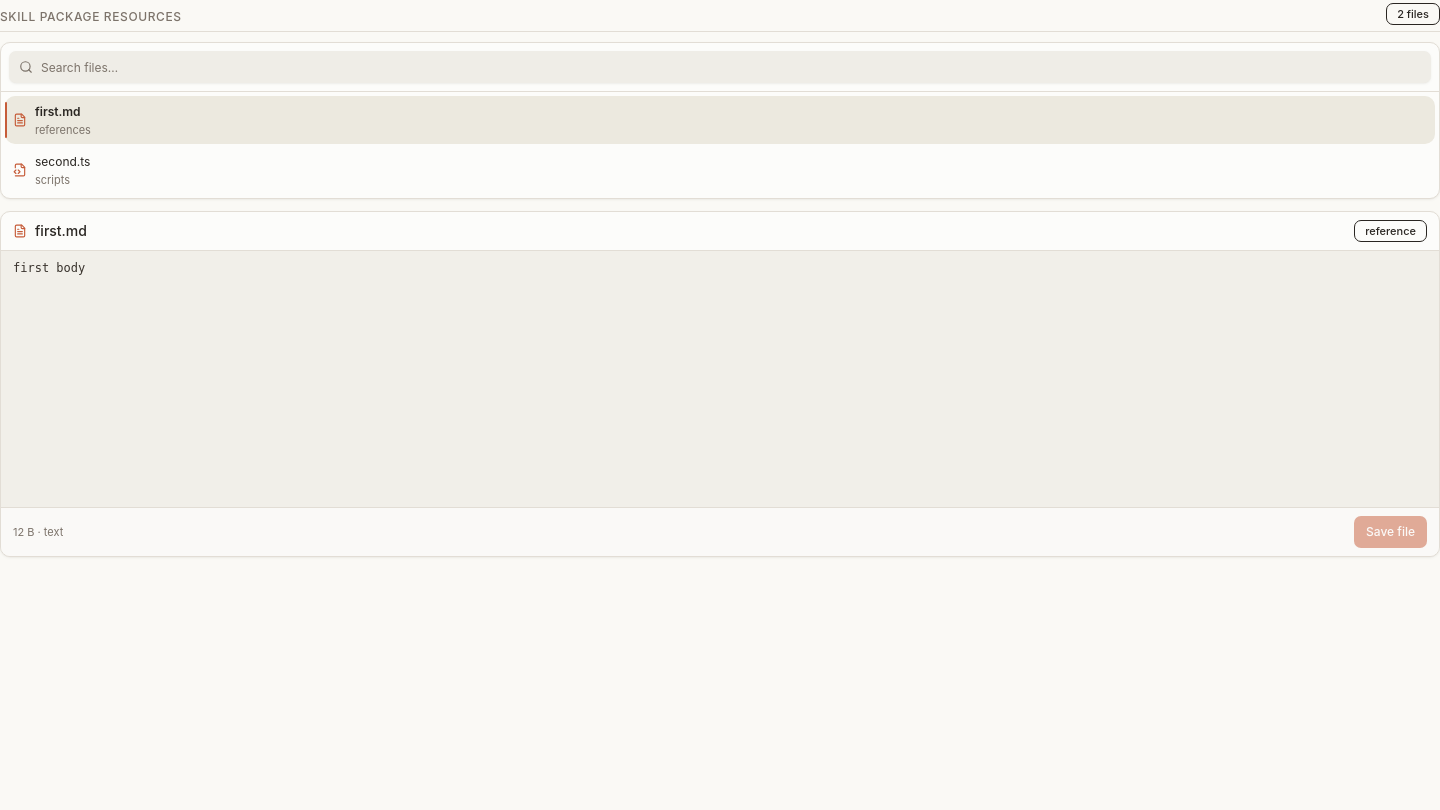
Test: SkillResourcesPanel › guards a dirty resource before selecting another file
The image size is (1440, 810).
Expected: the button "Save file" is disabled, [1354,516,1427,548]
Replace the text in the text box named "editable text" with "local draft" at (720, 379), box [1,251,1439,507]
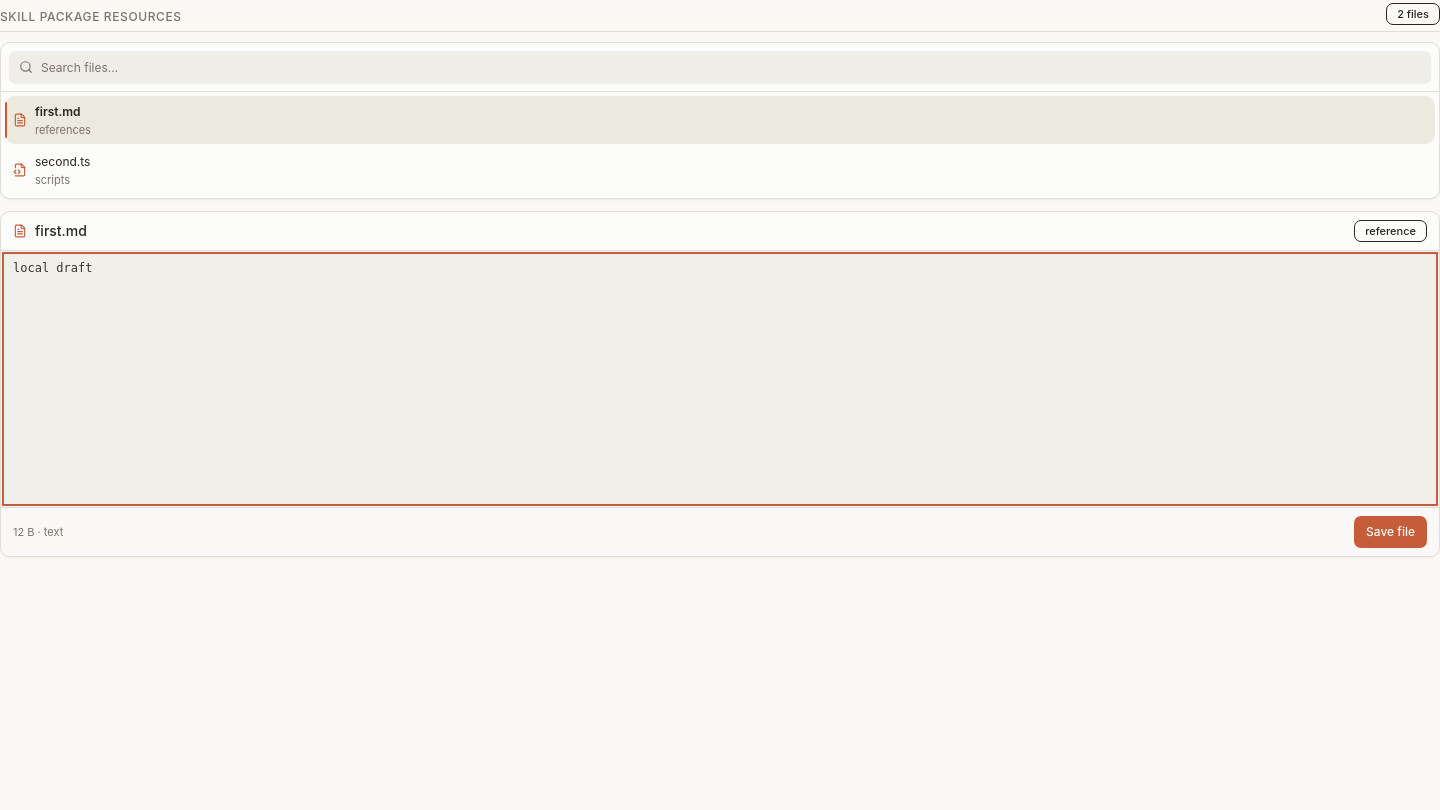
Now the button "Save file" is enabled, box [1354,516,1427,548]
Click the button "second.ts scripts".
click(63, 162)  # box [5,146,1435,194]
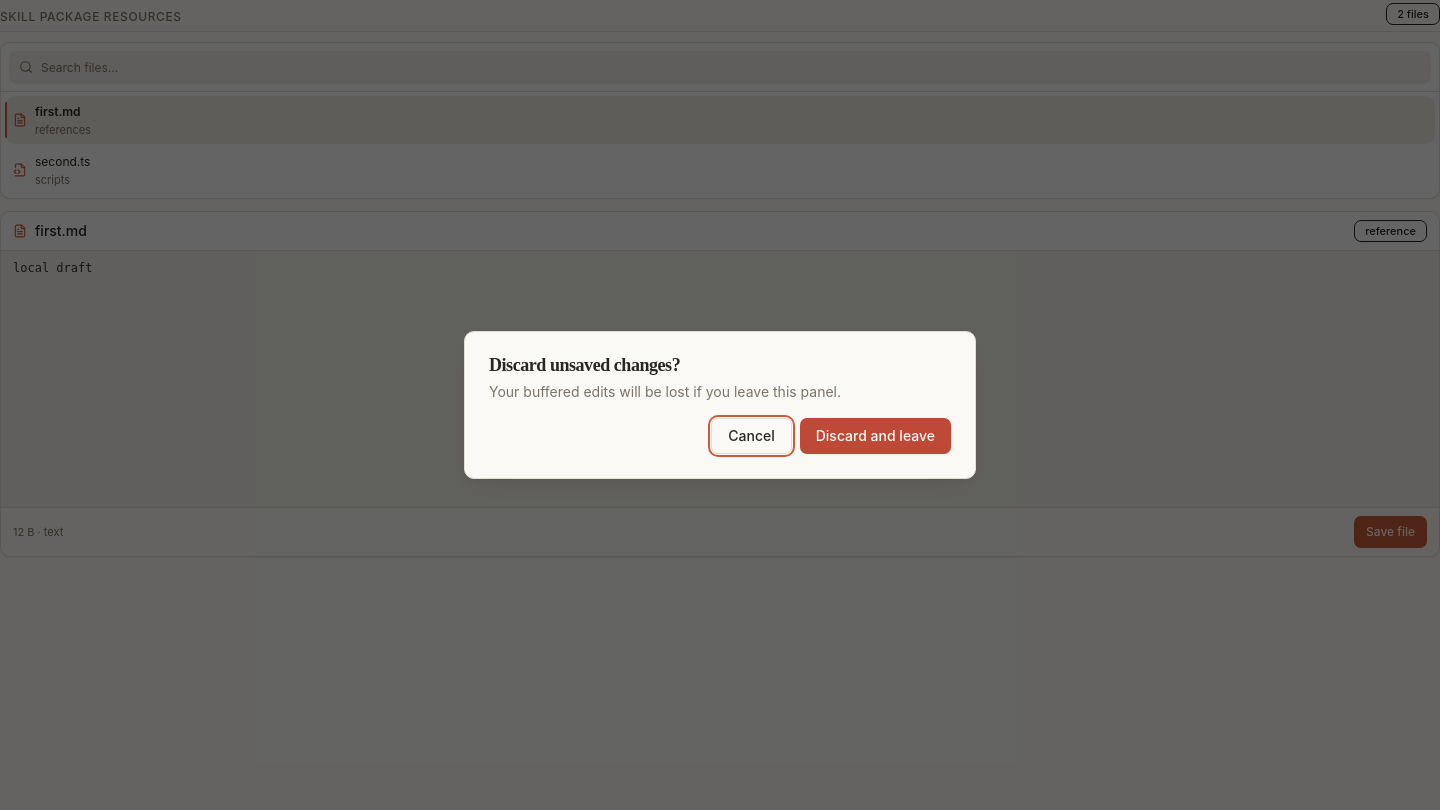
Now the dialog is shown, box [464,331,976,479]
Click the button "Discard and leave".
click(875, 436)  # box [800,418,951,454]
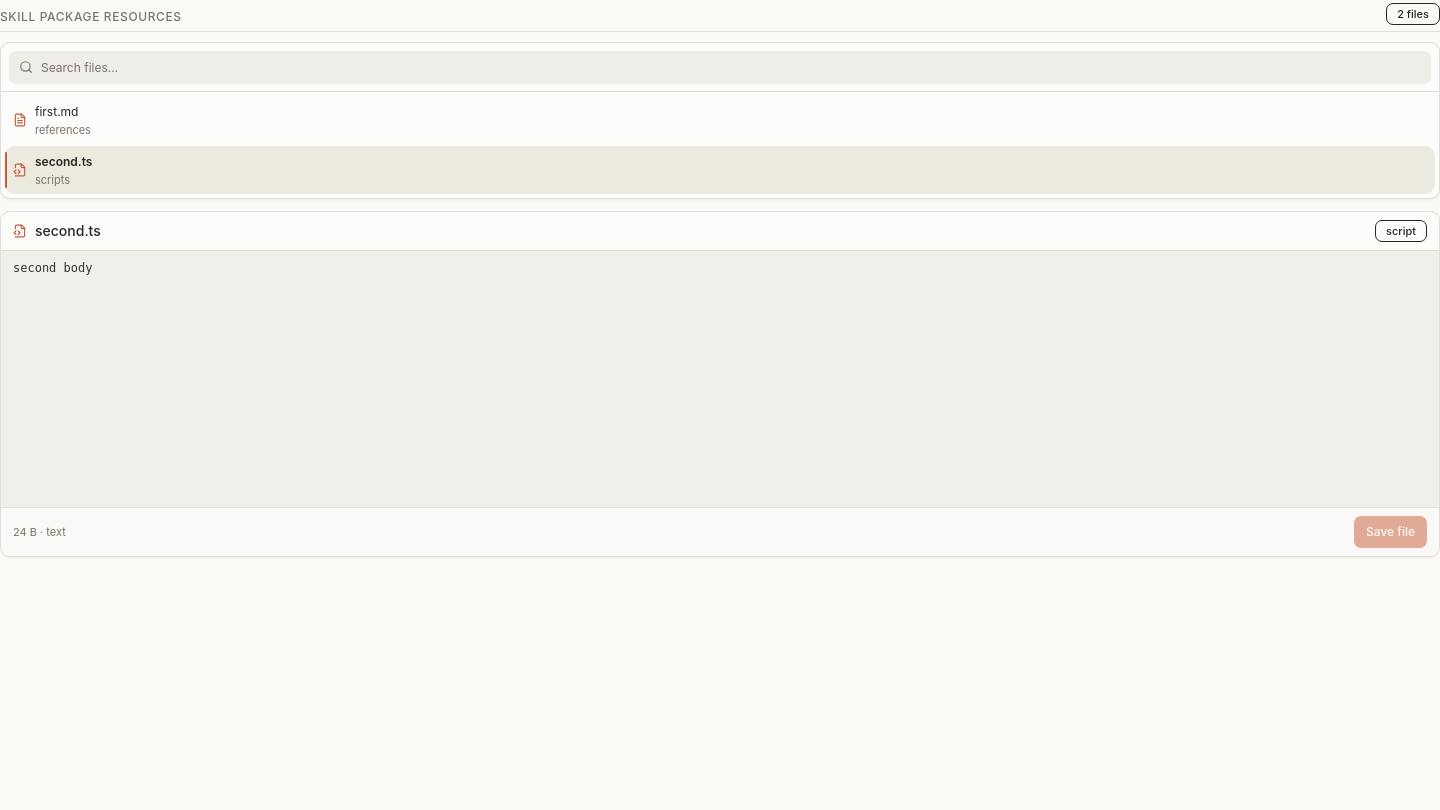
Now the text box showing "second body" is shown, box [1,251,1439,507]
